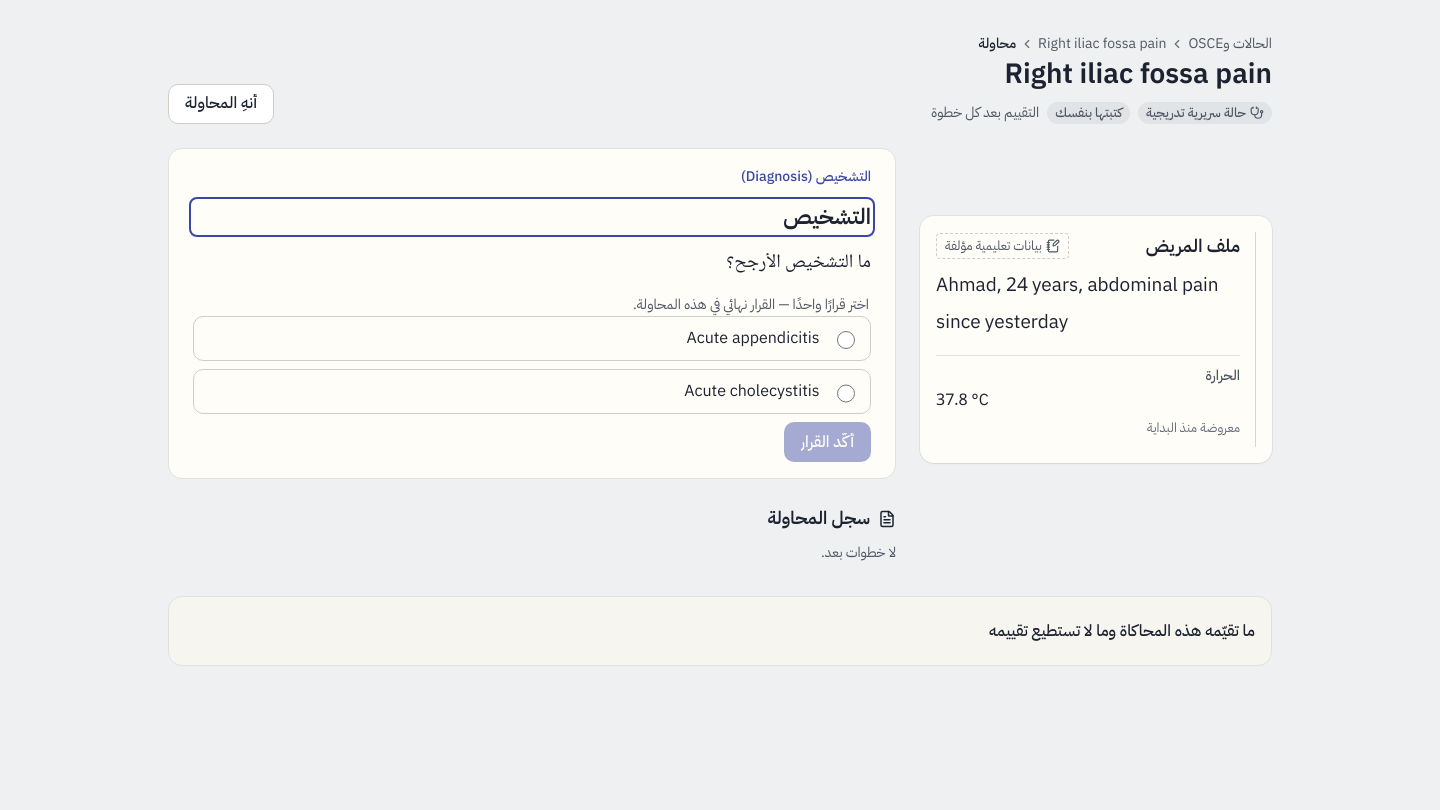
Test: case runner › a failed request keeps the choice and is re-sent with the same event id
Click the radio button labelled "Acute cholecystitis": (846, 393) [837,384,855,403]
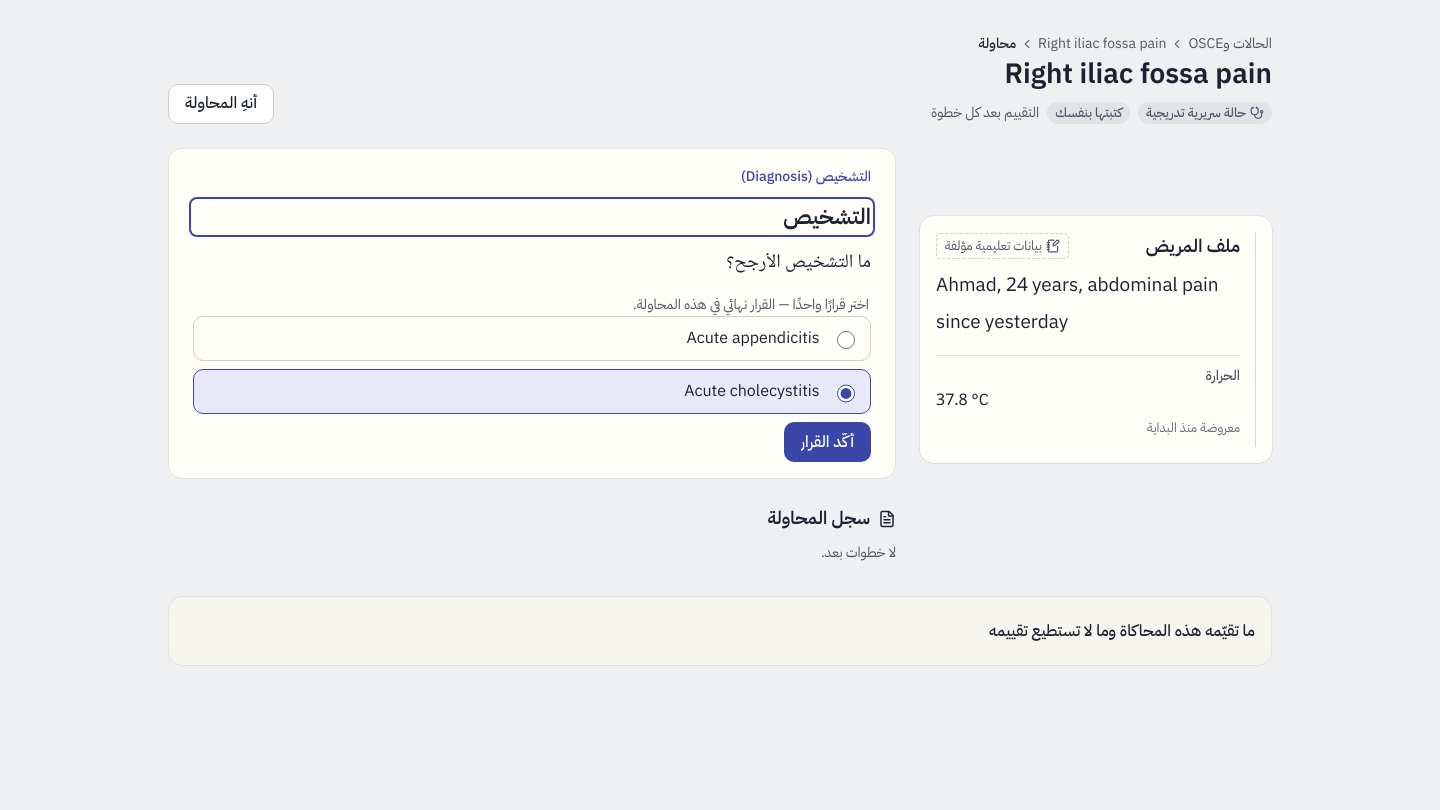
Click the button "أكّد القرار": (827, 442) [784,422,871,462]
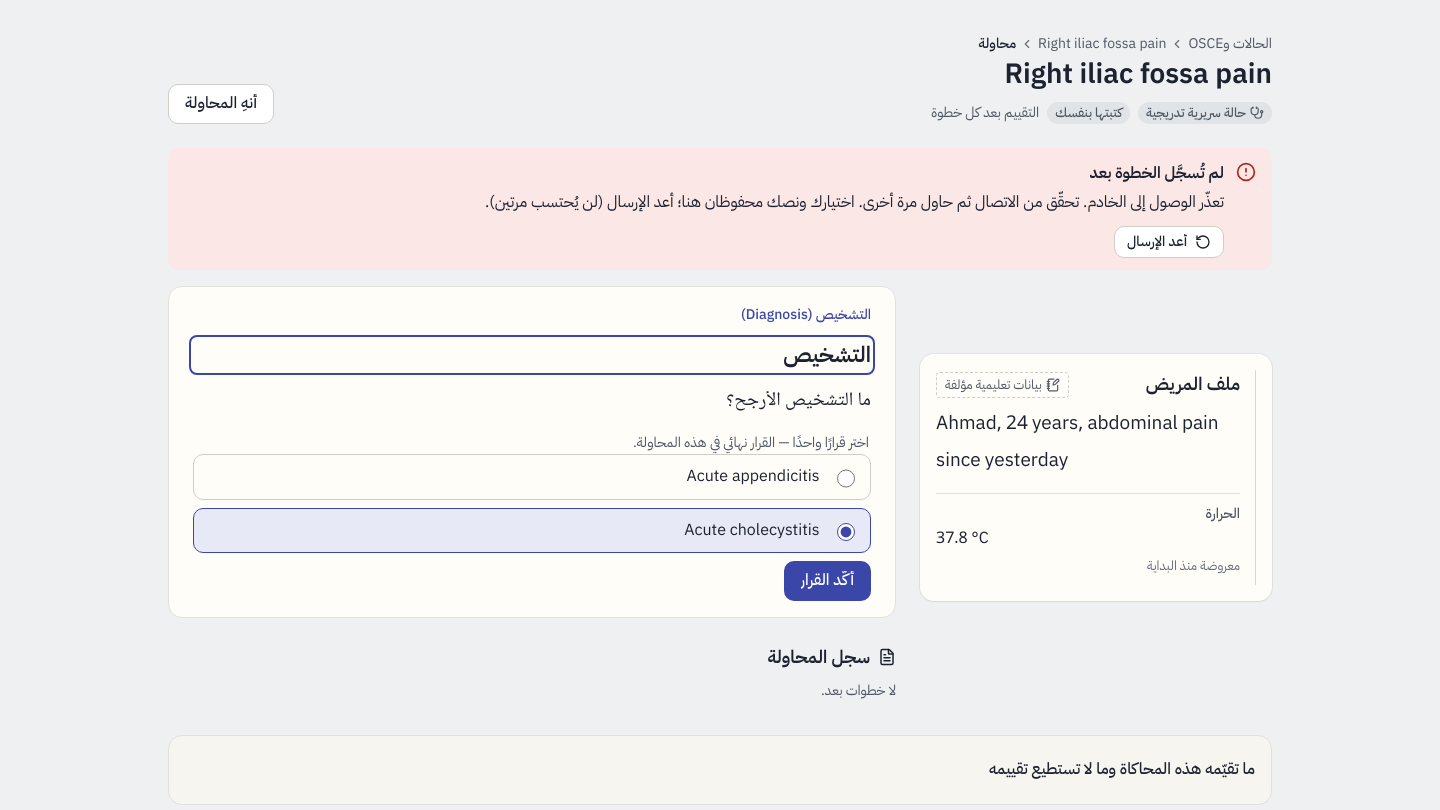
Check: the text "لم تُسجَّل الخطوة بعد" is shown, box [1090,161,1224,185]
Click the button "أعد الإرسال": (1169, 242) [1114,226,1224,258]
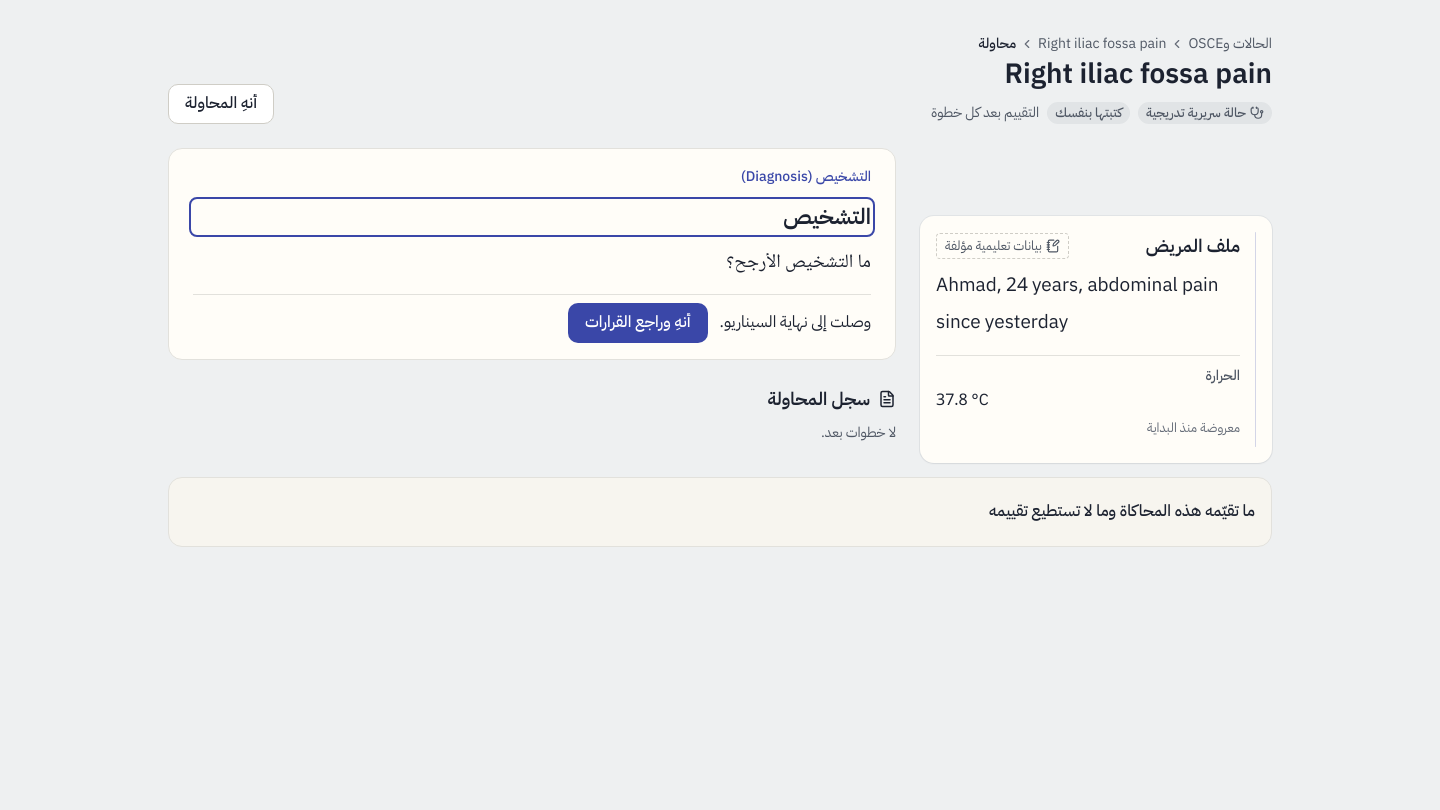
Check: the text "لم تُسجَّل الخطوة بعد" is gone
